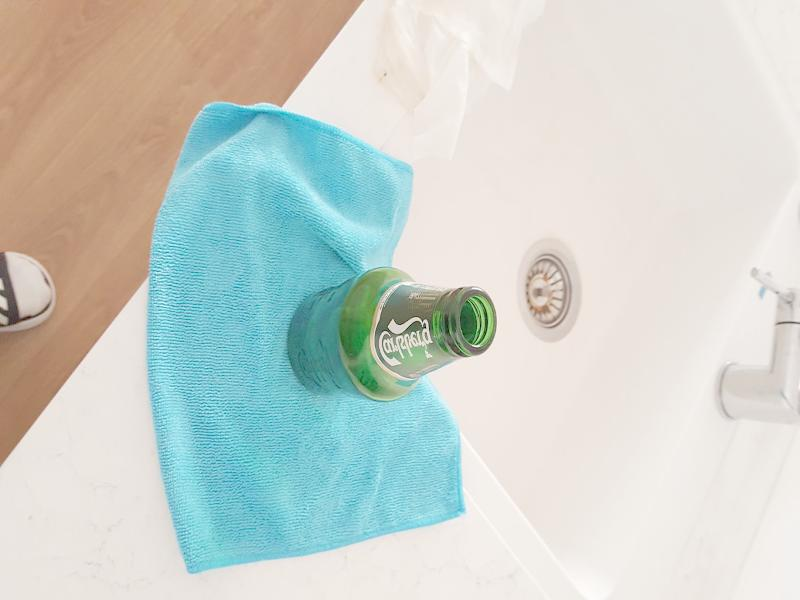Beer: (284, 266, 494, 395)
